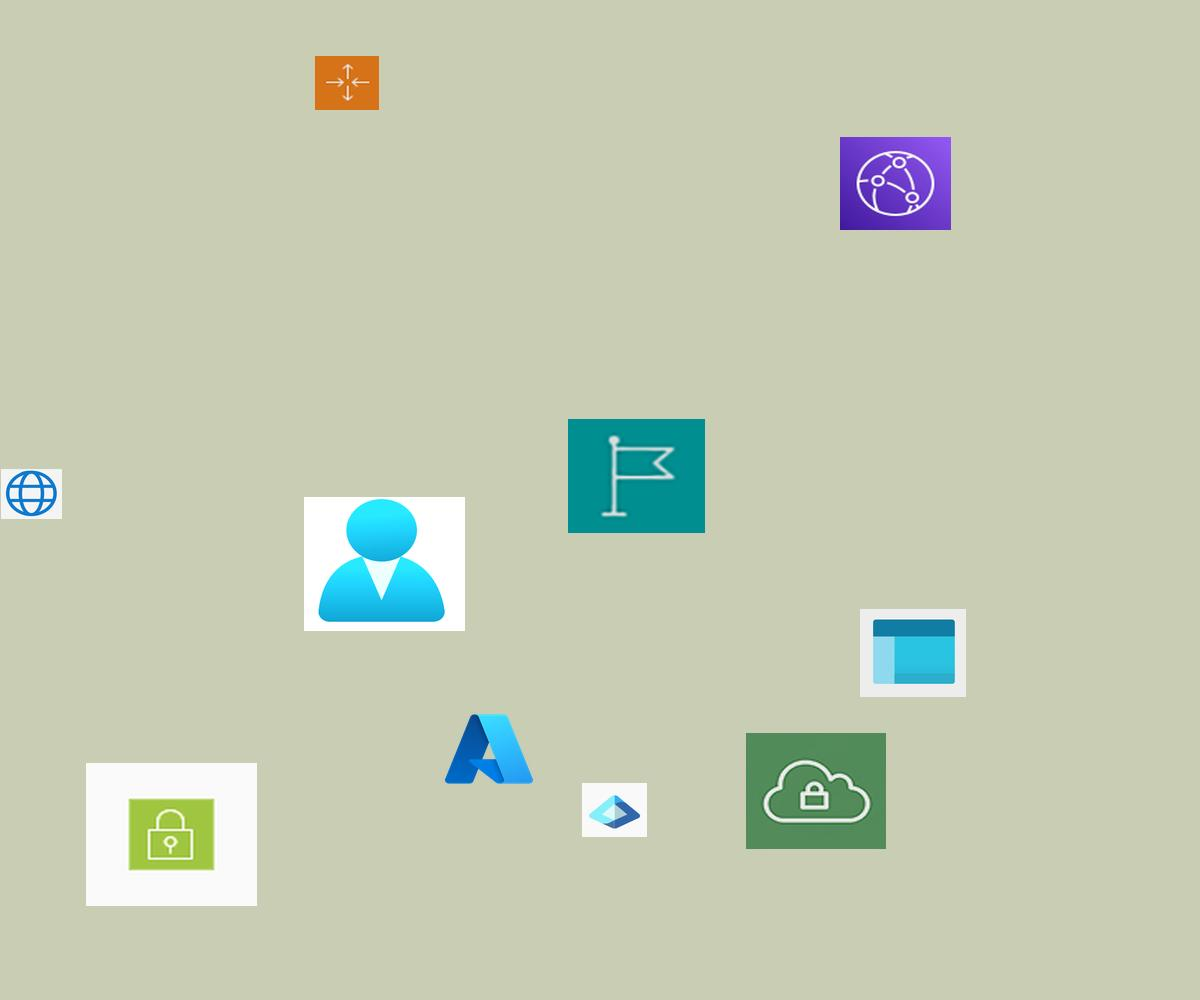AWS-CloudFront: (840, 137, 951, 230)
AWS-Private_vpc: (746, 733, 886, 849)
AWS-Public-subnet: (86, 763, 257, 906)
AWS-Region: (568, 419, 705, 533)
AWS-Scaling-group: (315, 56, 379, 110)
Azure_http: (1, 469, 62, 519)
Azure_management-portal: (860, 609, 966, 697)
Azure_microsoft_entra: (582, 783, 647, 837)
Azure_services: (441, 709, 537, 789)
Azure_users: (304, 497, 465, 631)
